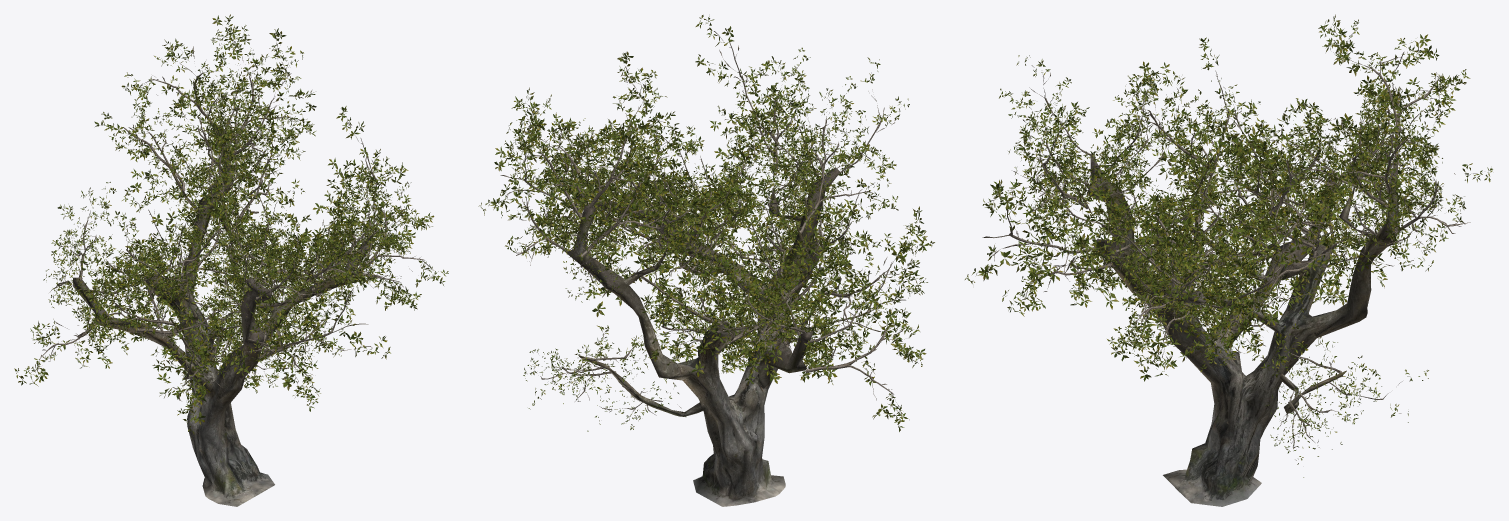
Rendered from island-tree.glb.
3 views of the same model, side by side, from view 1: azimuth 30°, elevation 25°; view 2: azimuth 150°, elevation 25°; view 3: azimuth 270°, elevation 25° (orthographic). The views are drawn at different scales.
Visible parts, largest first — view 1: island_tree_01_LOD0; view 2: island_tree_01_LOD0; view 3: island_tree_01_LOD0.
Part boxes in pixels (<box>): island_tree_01_LOD0: <box>14,14,448,506</box>; island_tree_01_LOD0: <box>478,15,934,506</box>; island_tree_01_LOD0: <box>965,14,1492,506</box>.
Bounding box in the file's own units: 4.74 × 5.02 × 4.82.
Materials: 3 (3 with a texture image).
